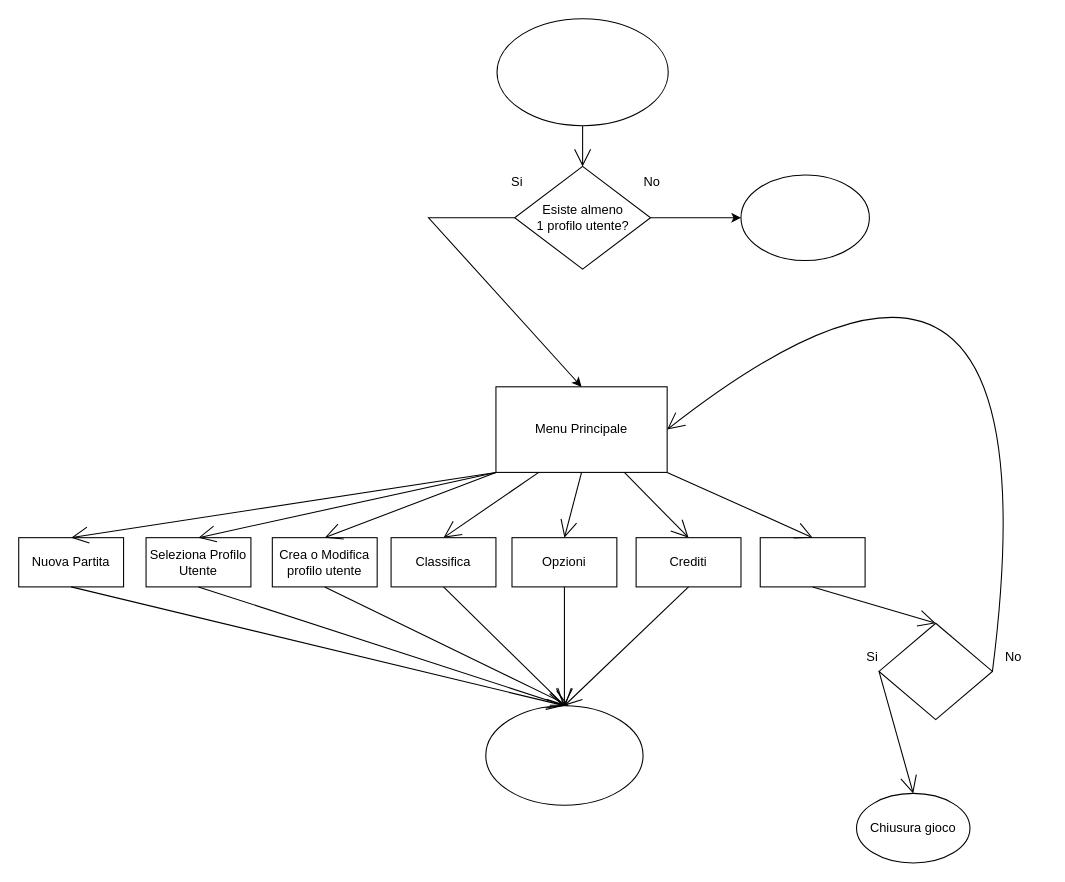
This 1065x882 diagram has some shape labels left out. Here are the shapes that lost their labels. From the top down, the centre of each, then its label:
At point 582,72: "Avvio gioco".
At point 804,217: "Sezione Creazione Profilo Utente".
At point 812,562: "Esci".
At point 935,671: "Sei sicuro di uscire?".
At point 564,755: "Apertura sezione menu selezionata".
